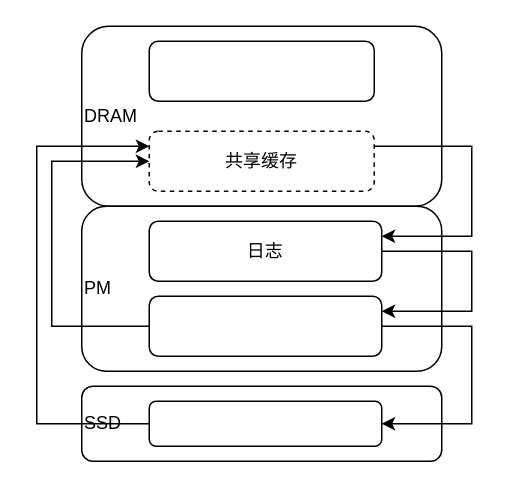
This 510x488 diagram has some shape labels left out. Here are the shapes that lost their labels. From the top down, the centre of each, then its label:
the point at 261,70: SQL/TXN
the point at 265,325: 共享持久化内存
the point at 265,423: 共享存储
